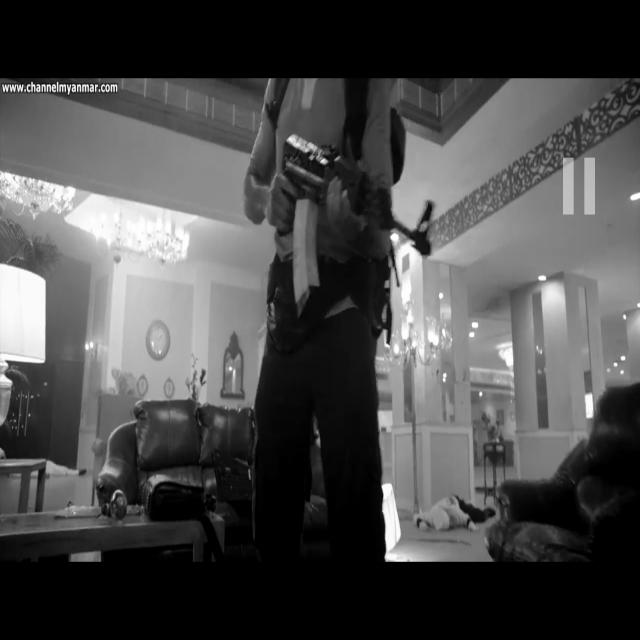gun: (276, 134, 434, 321)
